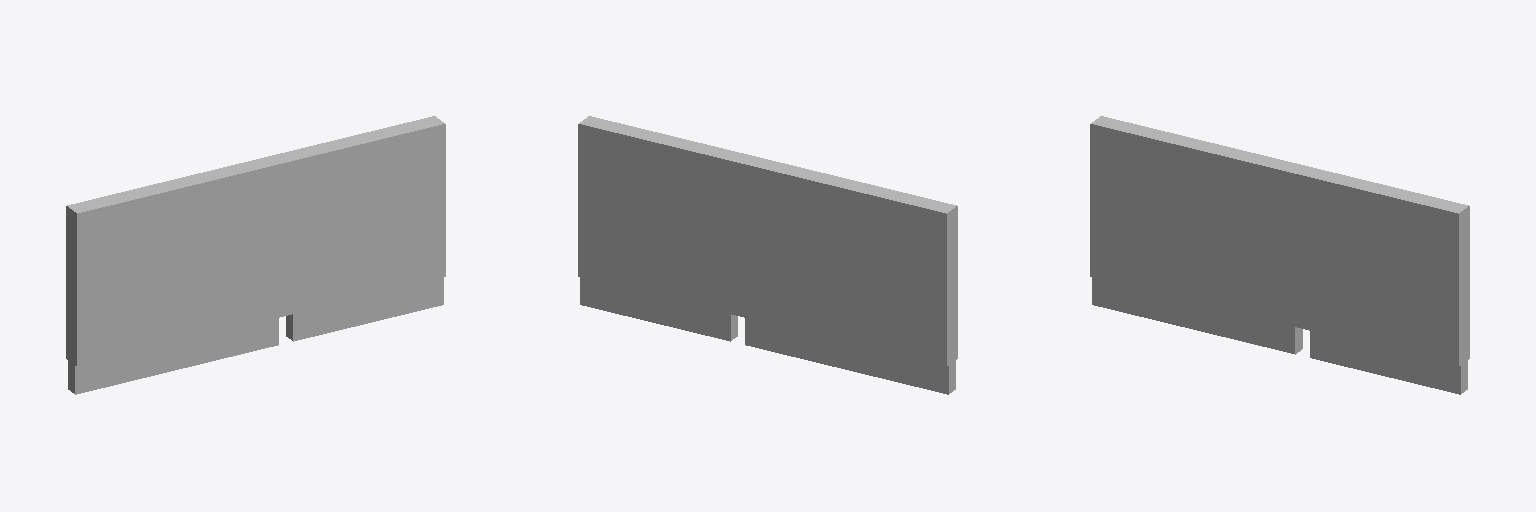
File: ram2.obj
The picture shows the model from 3 angles: view 1: azimuth 30°, elevation 25°; view 2: azimuth 150°, elevation 25°; view 3: azimuth 330°, elevation 25°; orthographic projection.
Visible parts, largest first — view 1: Cube; view 2: Cube; view 3: Cube.
Boxes of the visible parts, x1=… form: Cube: x1=66, y1=116, x2=445, y2=394; Cube: x1=578, y1=116, x2=957, y2=394; Cube: x1=1090, y1=116, x2=1469, y2=394.
Size of the model in its own units: 7.6 by 3.6 by 0.3851.